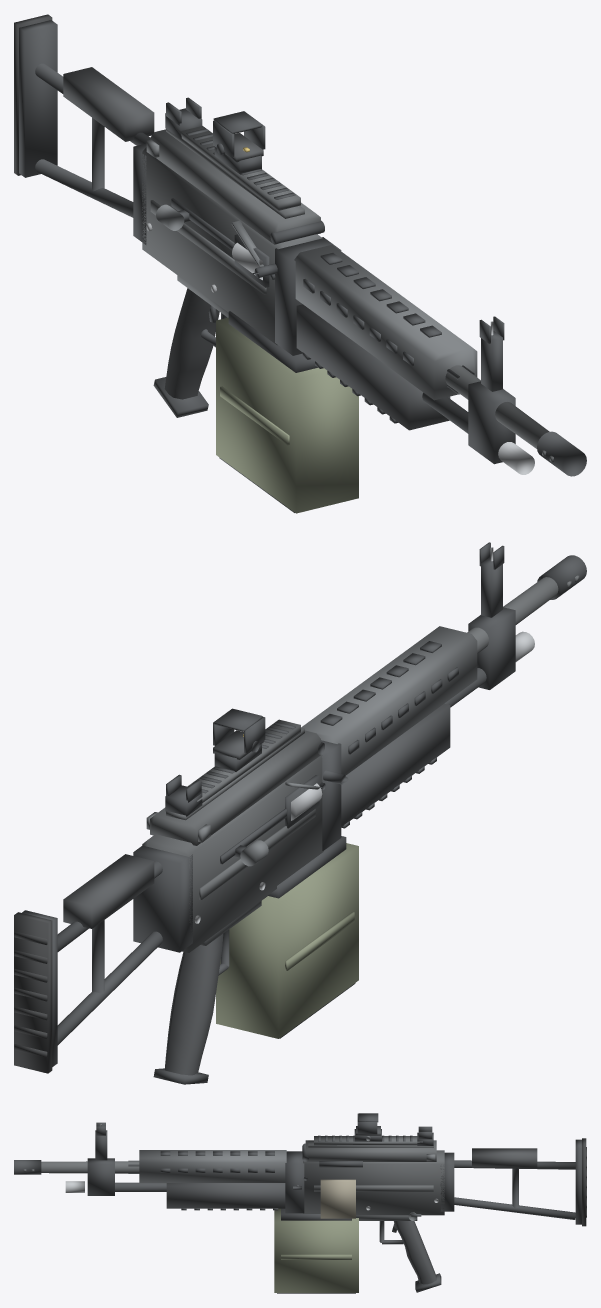
The model's file is lmg.glb.
The picture shows the model from 3 angles, top to bottom: view 1: azimuth 30°, elevation 25°; view 2: azimuth 150°, elevation 25°; view 3: azimuth 270°, elevation 25°; orthographic projection. The views are drawn at different scales.
Visible parts, largest first — view 1: body, mag; view 2: body, mag; view 3: body, mag.
Boxes of the visible parts, x1,y1,x2,y2 form: body: [14, 14, 586, 476]; mag: [216, 317, 358, 513]; body: [14, 542, 586, 1084]; mag: [216, 843, 358, 1038]; body: [14, 1113, 586, 1292]; mag: [274, 1179, 358, 1293].
Size of the model in its own units: 0.095 by 0.3477 by 1.05.
